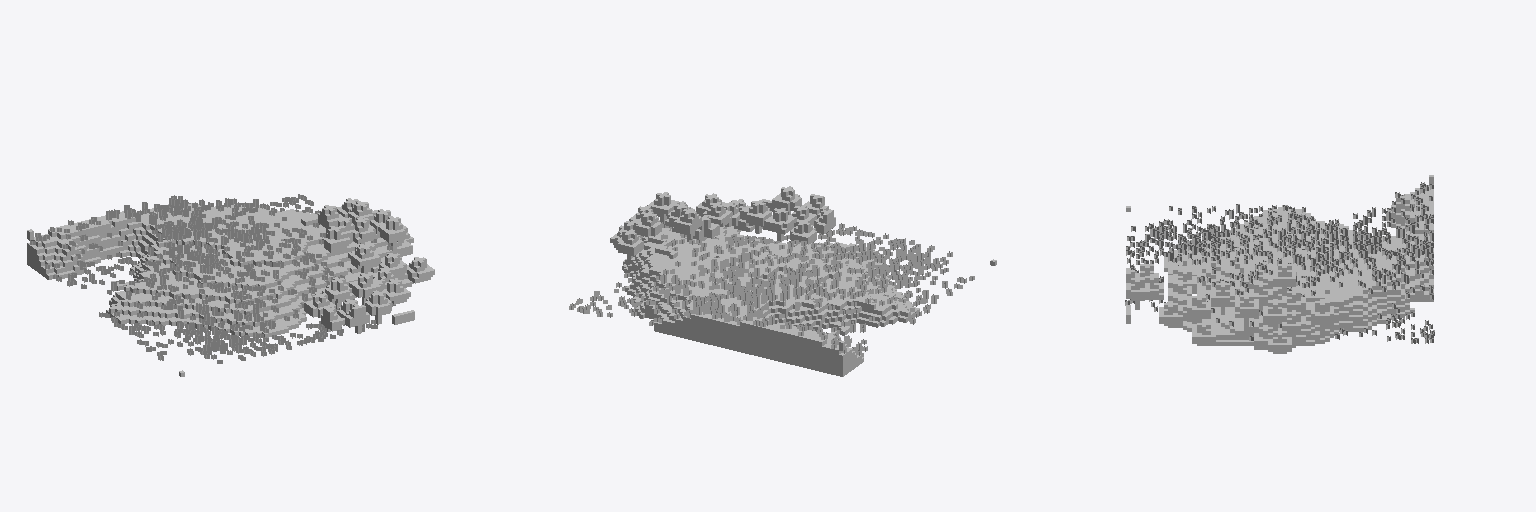
The model's file is Hill_0.obj.
3 views of the same model, side by side, from view 1: azimuth 30°, elevation 25°; view 2: azimuth 150°, elevation 25°; view 3: azimuth 270°, elevation 25° (orthographic).
Size of the model in its own units: 74 by 13 by 65.2.